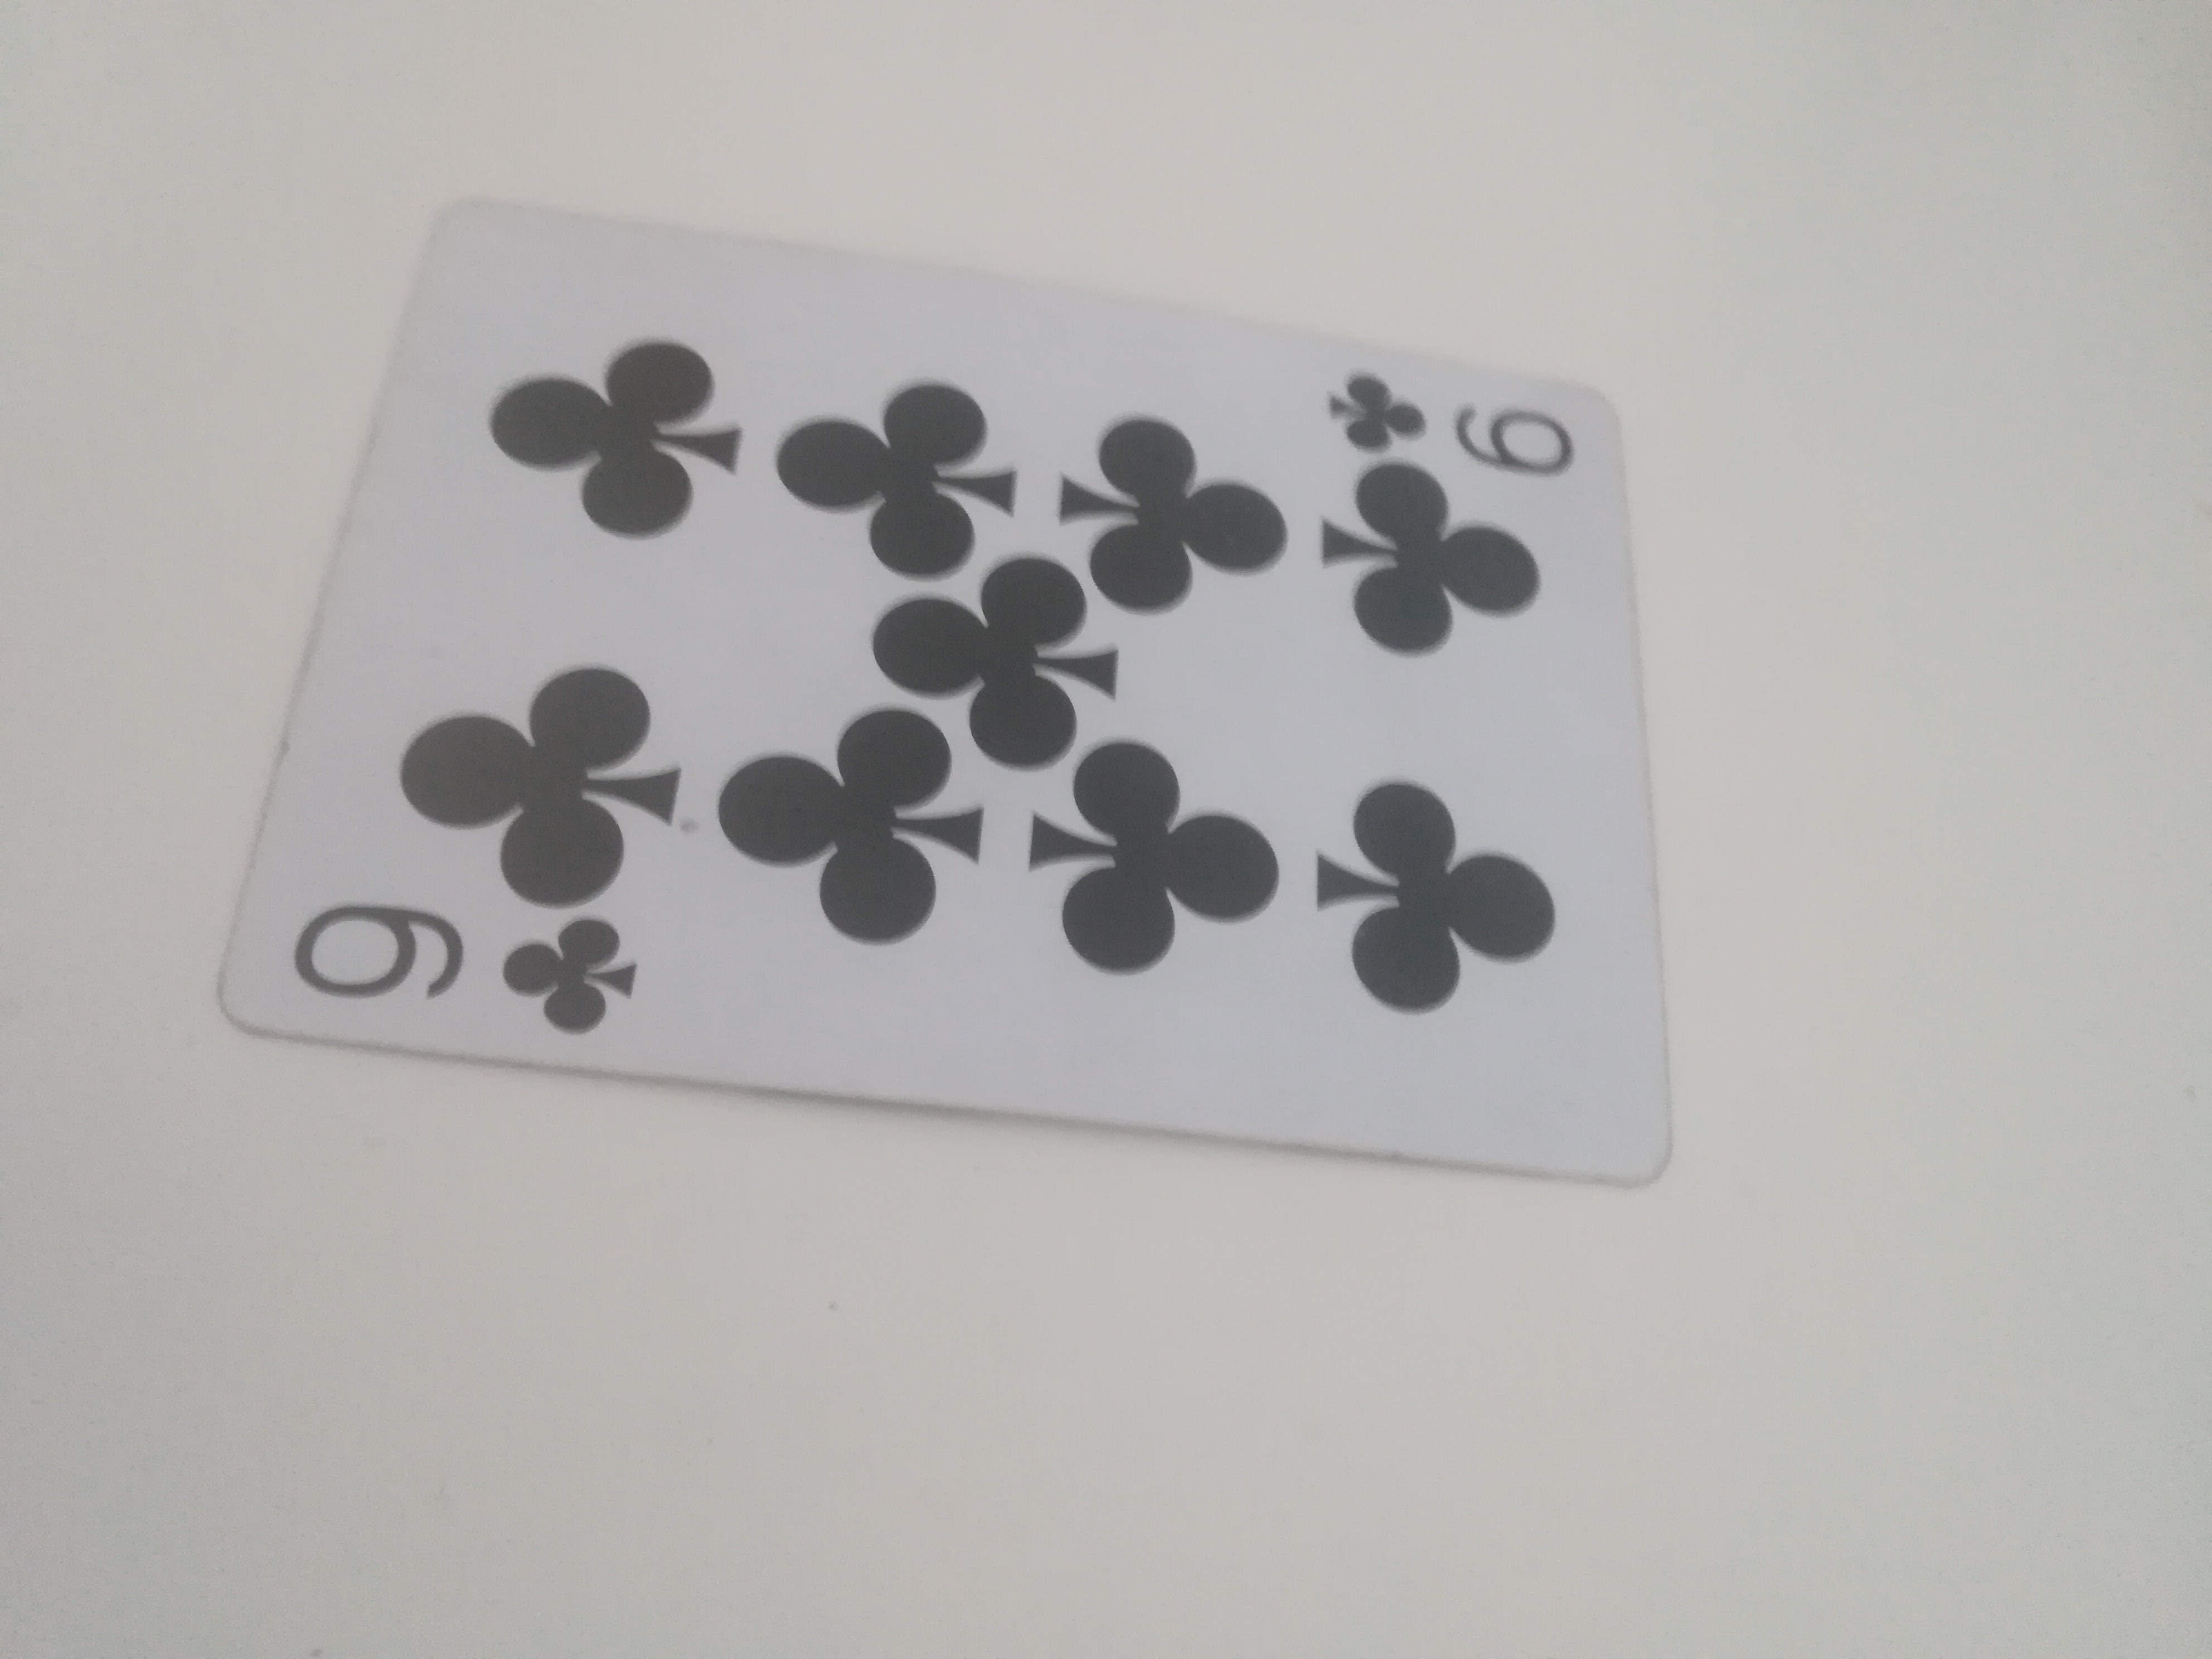9C: (207, 207, 1676, 1192)
